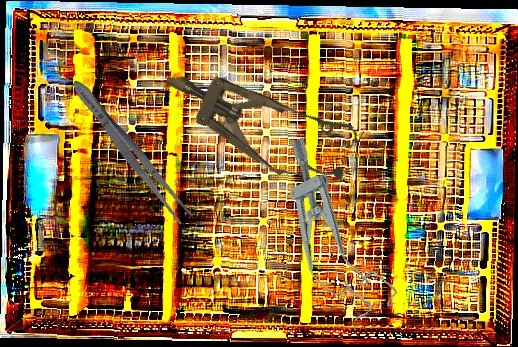Dressing Forceps: (65, 74, 197, 229)
Speculum: (150, 43, 366, 200), (254, 130, 402, 332)
